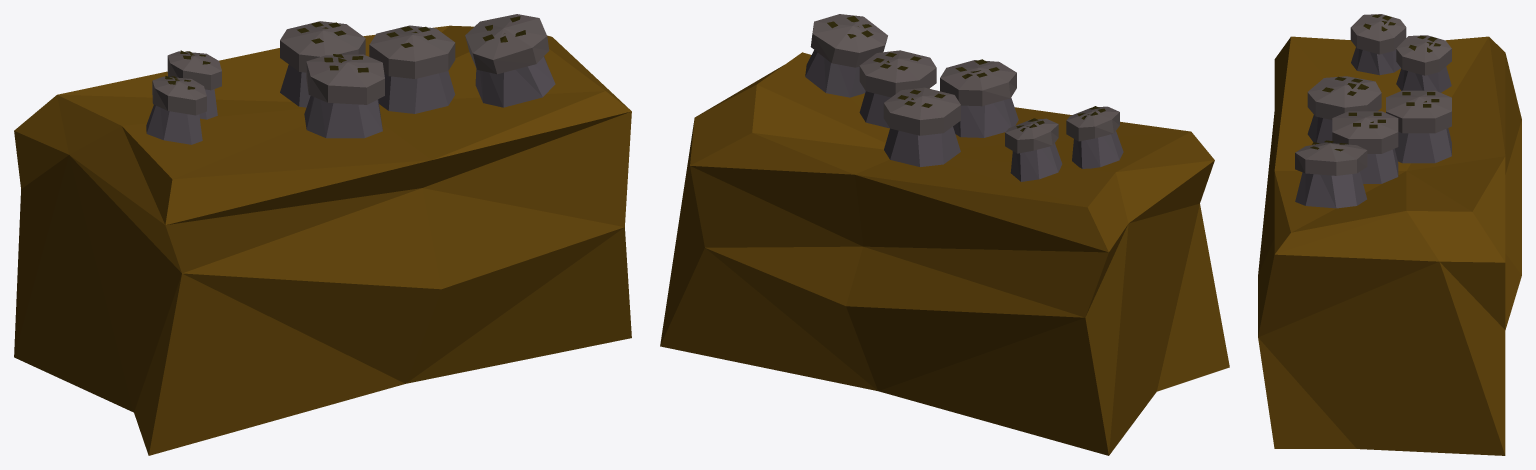
Rendered from obj_counter_5_0.obj.
The picture shows the model from 3 angles, left to right: view 1: azimuth 30°, elevation 25°; view 2: azimuth 150°, elevation 25°; view 3: azimuth 270°, elevation 25°; orthographic projection. The views are drawn at different scales.
Size of the model in its own units: 1.88 by 1.12 by 1.
